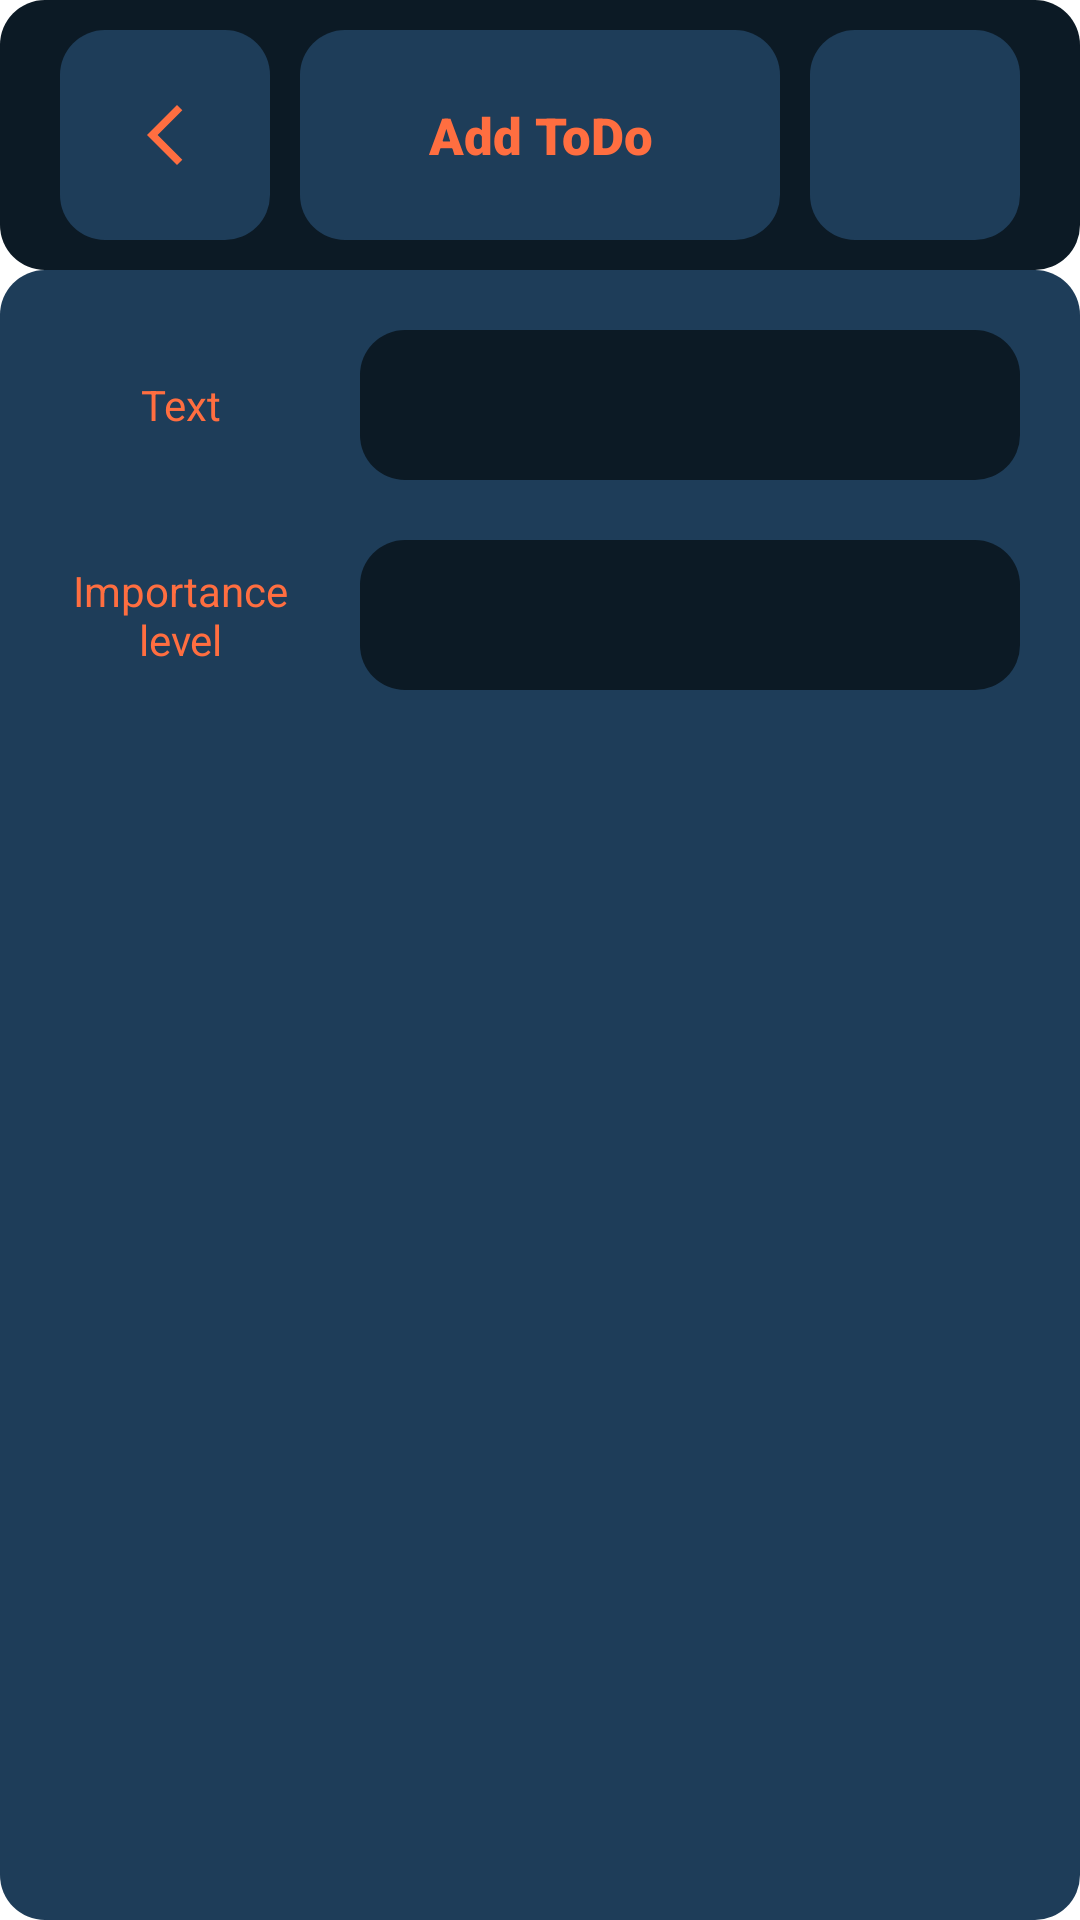

Where to tap for icons on this 1080x1920 app screen, as (x=x, y=y):
back: (x=165, y=135)
